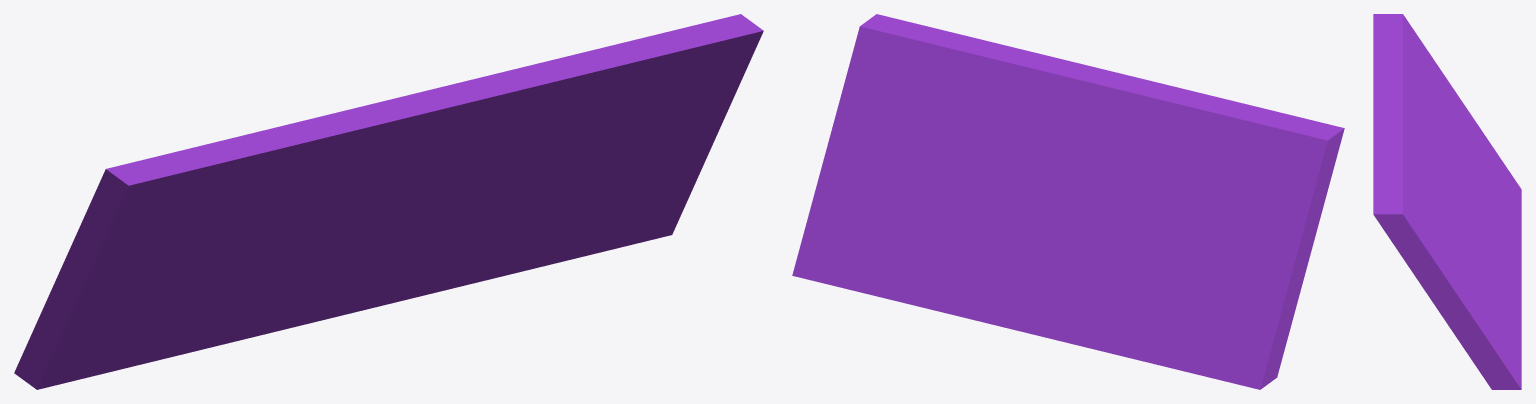
File: Window_28_chunks.fbx
3 renders of one model, left to right at view 1: azimuth 30°, elevation 25°; view 2: azimuth 150°, elevation 25°; view 3: azimuth 270°, elevation 25°, orthographic. The views are drawn at different scales.
Parts seen in each view (by area): view 1: Window_28_11, Window_28_1, Window_28_6, Window_28_8, Window_28_7, Window_28_9, Window_28_2, Window_28_13, Window_28_0, Window_28_4, Window_28_10, Window_28_12 (+3 smaller); view 2: Window_28_11, Window_28_1, Window_28_2, Window_28_6, Window_28_8, Window_28_15, Window_28_14, Window_28_4, Window_28_9, Window_28_7, Window_28_12, Window_28_13; view 3: Window_28_11, Window_28_6, Window_28_1, Window_28_2, Window_28_7, Window_28_8, Window_28_14, Window_28_15, Window_28_4, Window_28_9, Window_28_12, Window_28_13.
Boxes of the visible parts, x1=… form: Window_28_11: x1=554, y1=14, x2=763, y2=214; Window_28_1: x1=14, y1=202, x2=230, y2=389; Window_28_6: x1=291, y1=52, x2=618, y2=211; Window_28_8: x1=92, y1=138, x2=294, y2=230; Window_28_7: x1=230, y1=90, x2=479, y2=166; Window_28_9: x1=390, y1=83, x2=593, y2=258; Window_28_2: x1=202, y1=237, x2=391, y2=349; Window_28_13: x1=386, y1=236, x2=548, y2=304; Window_28_0: x1=161, y1=195, x2=426, y2=238; Window_28_4: x1=91, y1=200, x2=327, y2=272; Window_28_10: x1=508, y1=162, x2=680, y2=223; Window_28_12: x1=392, y1=201, x2=573, y2=258; Window_28_11: x1=802, y1=14, x2=983, y2=238; Window_28_1: x1=1149, y1=181, x2=1329, y2=389; Window_28_2: x1=993, y1=197, x2=1165, y2=362; Window_28_6: x1=974, y1=40, x2=1166, y2=199; Window_28_8: x1=1158, y1=110, x2=1344, y2=191; Window_28_15: x1=909, y1=213, x2=1036, y2=311; Window_28_14: x1=792, y1=194, x2=919, y2=299; Window_28_4: x1=1088, y1=178, x2=1327, y2=254; Window_28_9: x1=961, y1=71, x2=1058, y2=240; Window_28_7: x1=1086, y1=65, x2=1268, y2=148; Window_28_12: x1=908, y1=173, x2=1005, y2=221; Window_28_13: x1=889, y1=273, x2=999, y2=324; Window_28_11: x1=1373, y1=165, x2=1503, y2=374; Window_28_6: x1=1373, y1=109, x2=1458, y2=197; Window_28_1: x1=1423, y1=44, x2=1521, y2=236; Window_28_2: x1=1455, y1=168, x2=1521, y2=303; Window_28_7: x1=1373, y1=46, x2=1423, y2=124; Window_28_8: x1=1373, y1=14, x2=1443, y2=136; Window_28_14: x1=1473, y1=280, x2=1521, y2=389; Window_28_15: x1=1470, y1=233, x2=1514, y2=321; Window_28_4: x1=1421, y1=41, x2=1471, y2=180; Window_28_9: x1=1409, y1=169, x2=1479, y2=238; Window_28_12: x1=1457, y1=235, x2=1483, y2=287; Window_28_13: x1=1507, y1=293, x2=1521, y2=347.
Size of the model in its own units: 1059 by 432 by 331.
